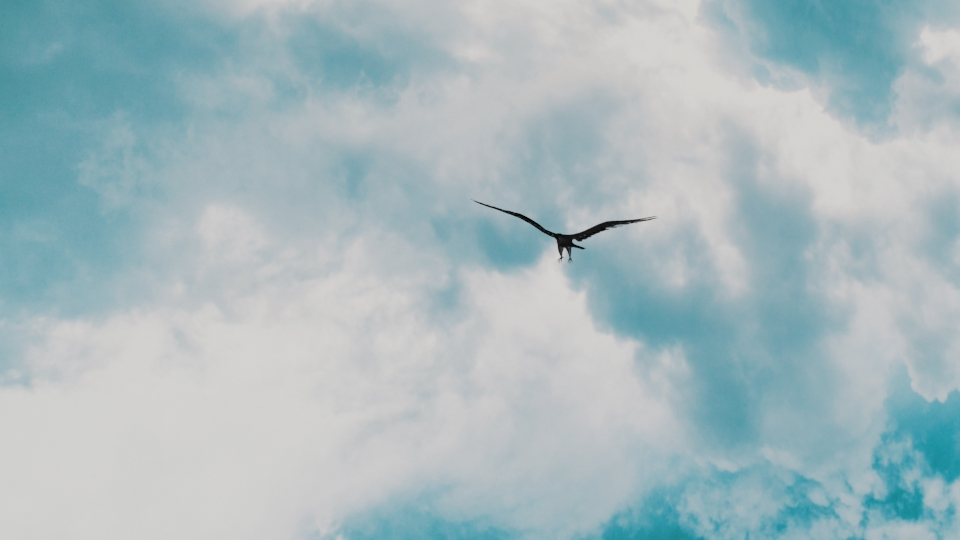bird: (474, 200, 661, 264)
